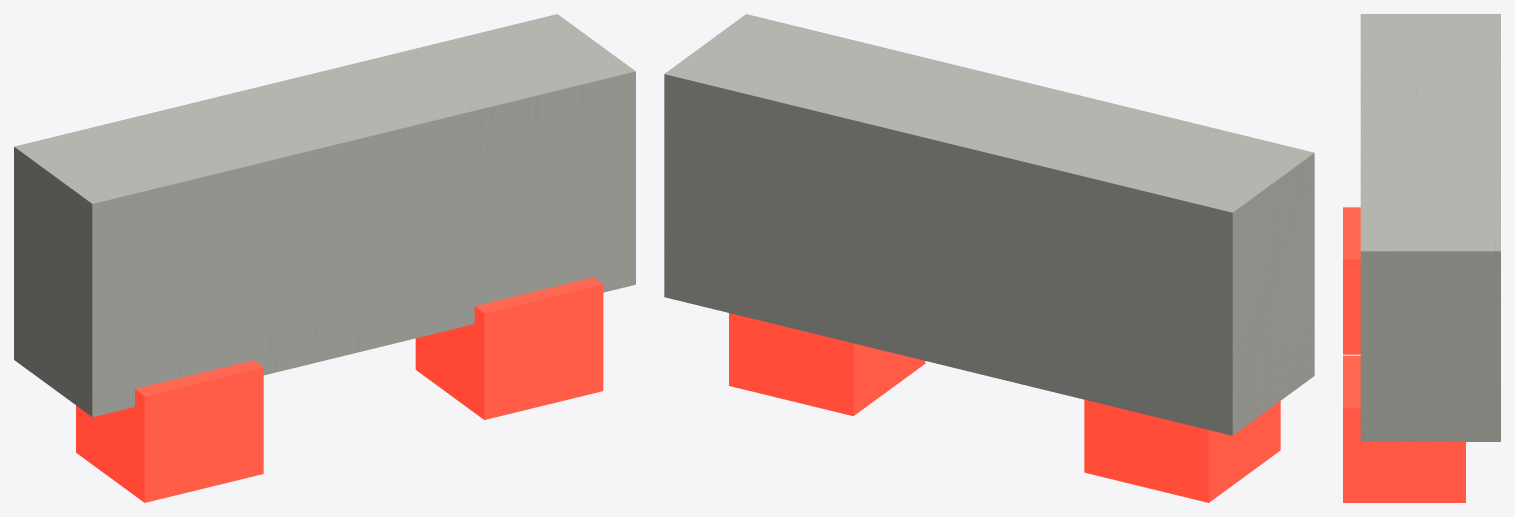
File: emergency_light.glb
3 views of the same model, side by side, from view 1: azimuth 30°, elevation 25°; view 2: azimuth 150°, elevation 25°; view 3: azimuth 270°, elevation 25° (orthographic). The views are drawn at different scales.
Visible parts, largest first — view 1: EmergencyLight; view 2: EmergencyLight; view 3: EmergencyLight.
Part boxes in pixels (x1=…): EmergencyLight: x1=14, y1=14, x2=635, y2=502; EmergencyLight: x1=664, y1=14, x2=1314, y2=502; EmergencyLight: x1=1343, y1=14, x2=1500, y2=502.
Bounding box in the file's own units: 0.32 × 0.17 × 0.09.
Materials: 2 (1 with a texture image).
